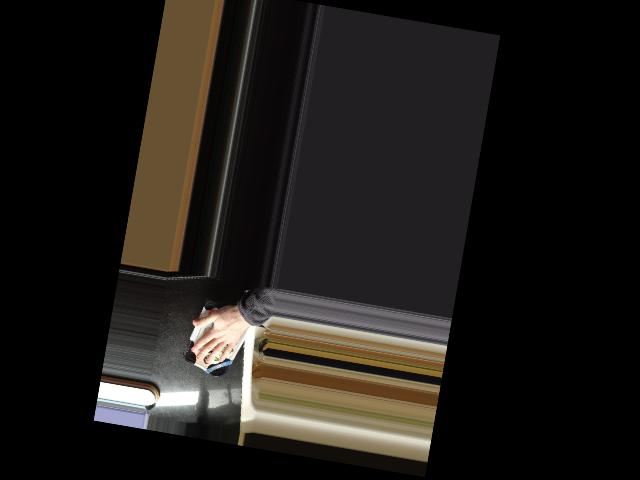cheese: (179, 296, 257, 383)
